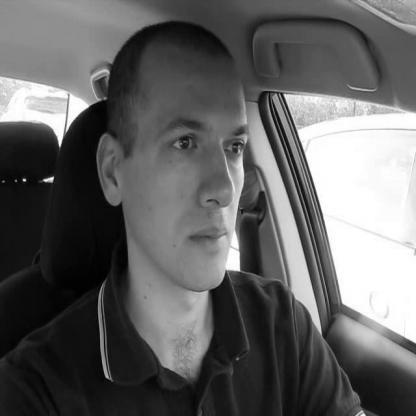no_seatbelt: (88, 21, 273, 416)
